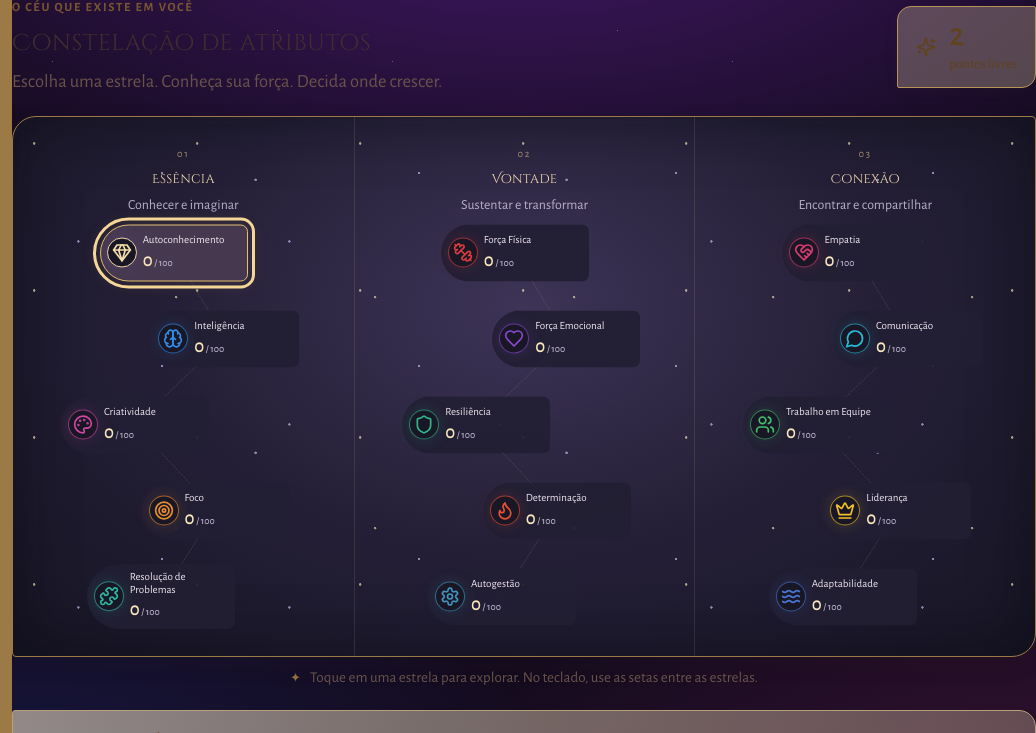
Scenario: Constelações do livro do herói › navega entre ramos com o teclado e evolui somente a estrela selecionada
Press ArrowRight in the button with aria-label "Explorar Autoconhecimento: 0 de 100", box [100,224,248,281]
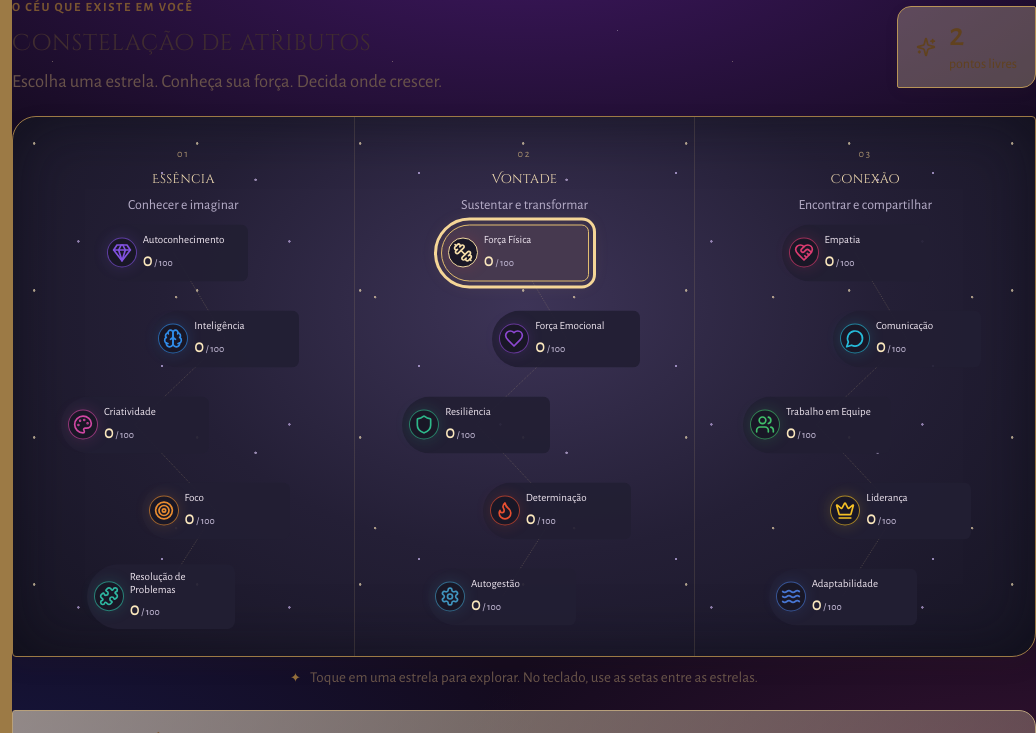
Now the button with aria-label "Explorar Força Física: 0 de 100" is pressed
Press End in the button with aria-label "Explorar Força Física: 0 de 100", box [441,224,589,281]
(page scrolled)
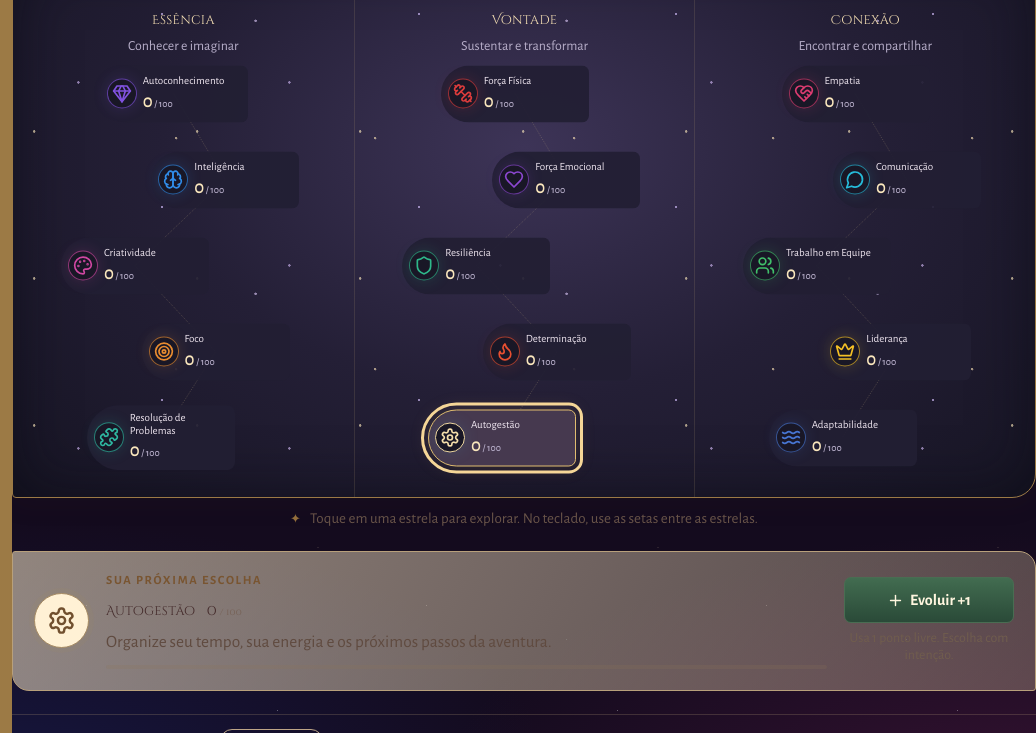
Click the button with aria-label "Aumentar Autogestão em 1 ponto".
click(929, 600)  # box [844,577,1014,623]
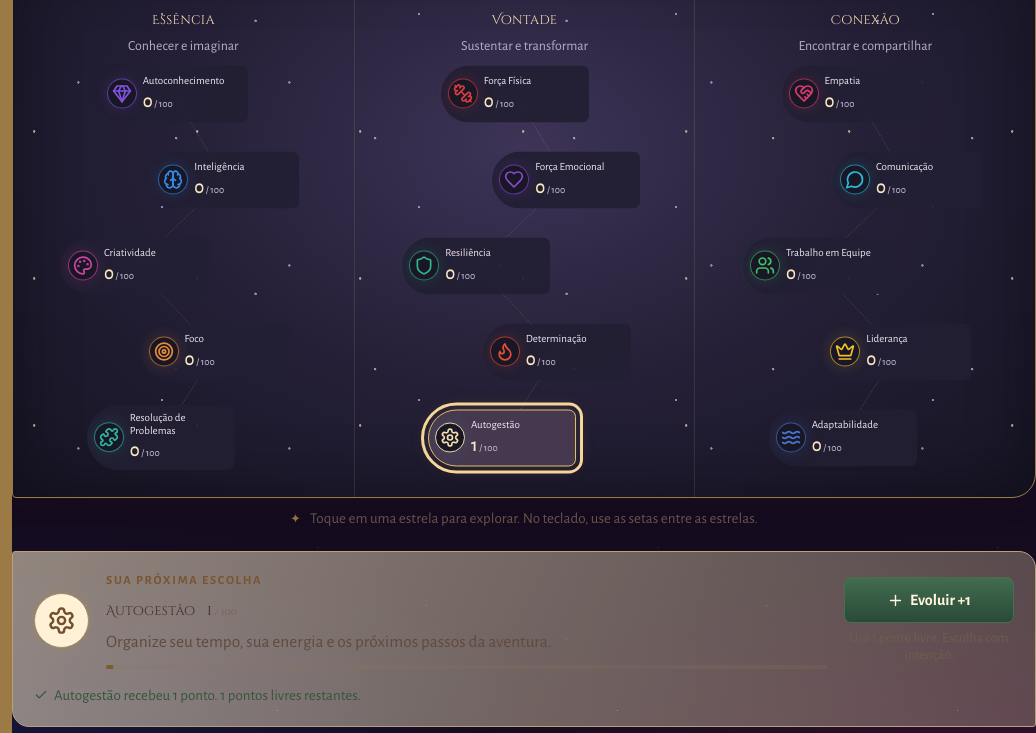
Now the message shows "Autogestão recebeu 1 ponto", box [54,688,361,703]
